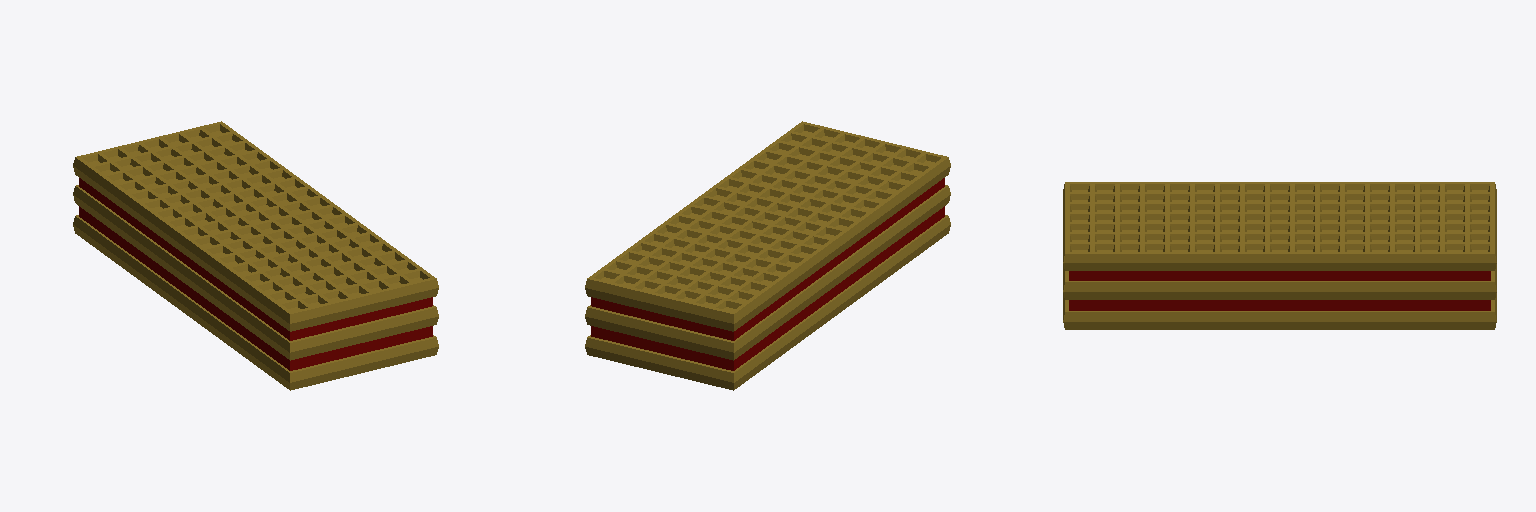
File: Platform2.obj
The picture shows the model from 3 angles: view 1: azimuth 30°, elevation 25°; view 2: azimuth 150°, elevation 25°; view 3: azimuth 270°, elevation 25°; orthographic projection.
Parts seen in each view (by area): view 1: Cube.002, Cube, Cube.003, Cube.001; view 2: Cube.002, Cube, Cube.003, Cube.001; view 3: Cube.002, Cube.001, Cube, Cube.003.
Part boxes in pixels (x1,y1,x2,y2): Cube.002: (73,121,438,331); Cube: (73,215,438,390); Cube.003: (73,185,438,360); Cube.001: (79,178,432,370); Cube.002: (585,121,950,331); Cube: (585,215,950,390); Cube.003: (585,185,950,360); Cube.001: (591,178,944,370); Cube.002: (1063,182,1496,270); Cube.001: (1069,271,1490,310); Cube: (1063,293,1496,329); Cube.003: (1063,264,1496,299).
Size of the model in its own units: 2 by 0.9755 by 5.03.